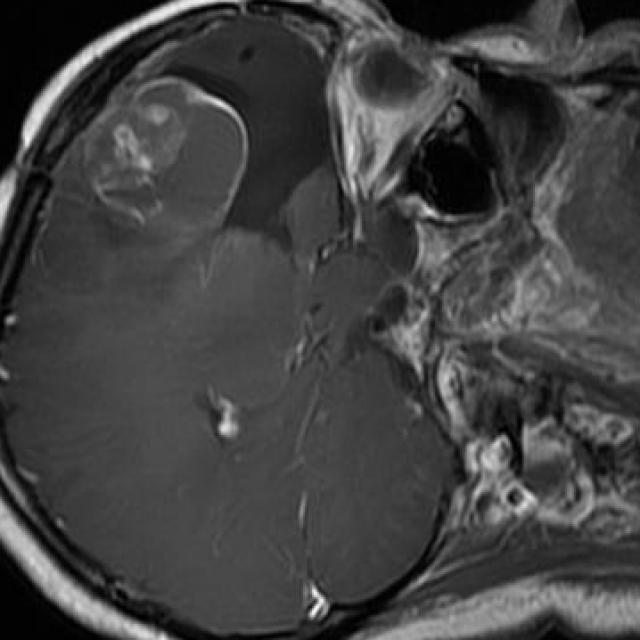glioma: (82, 20, 326, 262)
